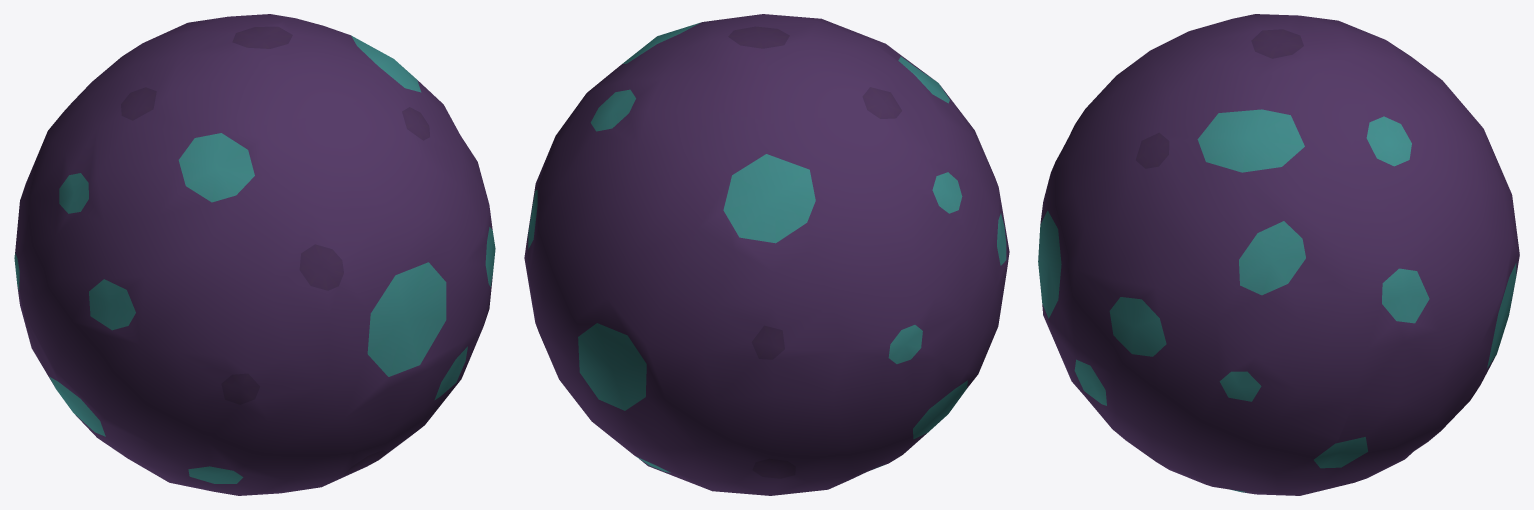
The model's file is neptune.glb.
The picture shows the model from 3 angles, left to right: view 1: azimuth 30°, elevation 25°; view 2: azimuth 150°, elevation 25°; view 3: azimuth 270°, elevation 25°; orthographic projection.
Parts seen in each view (by area): view 1: Neptune; view 2: Neptune; view 3: Neptune.
Boxes of the visible parts, x1=… form: Neptune: x1=14, y1=14, x2=495, y2=495; Neptune: x1=524, y1=14, x2=1009, y2=495; Neptune: x1=1038, y1=14, x2=1519, y2=495.
Size of the model in its own units: 0.1684 by 0.1669 by 0.1681.
Materials: 1 (1 with a texture image).
